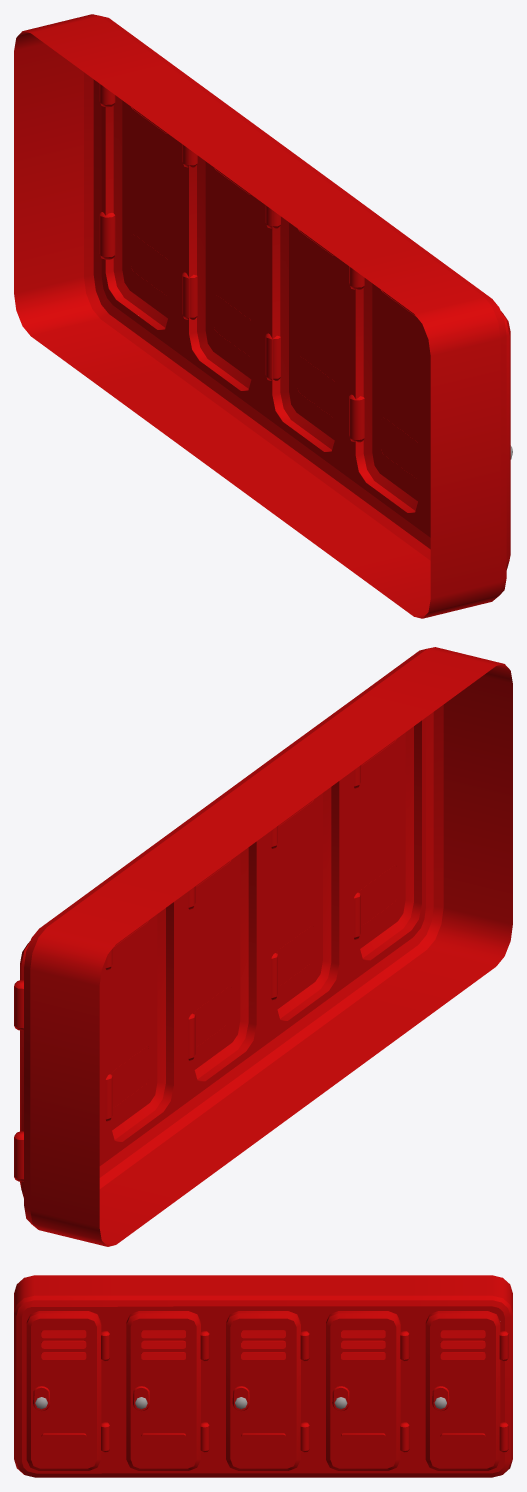
File: Cabnet.fbx
The picture shows the model from 3 angles, top to bottom: view 1: azimuth 30°, elevation 25°; view 2: azimuth 150°, elevation 25°; view 3: azimuth 270°, elevation 25°; orthographic projection. The views are drawn at different scales.
Parts seen in each view (by area): view 1: Cabnet; view 2: Cabnet; view 3: Cabnet.
Part boxes in pixels (x1,y1,x2,y2): Cabnet: (14,14,512,618); Cabnet: (14,647,512,1246); Cabnet: (14,1275,512,1477).
Size of the model in its own units: 4.88 by 13.85 by 34.51.
